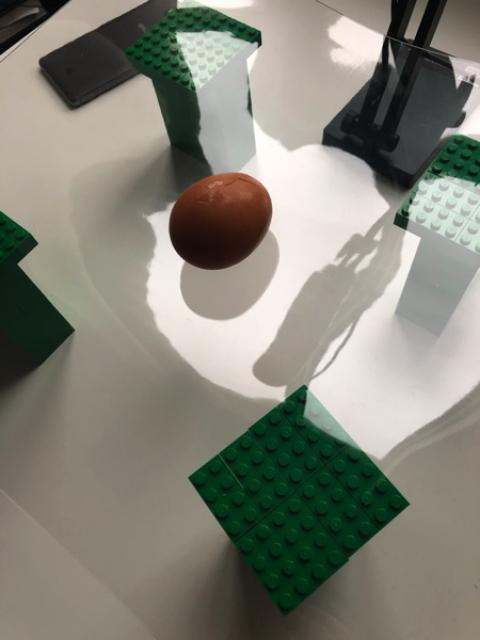Roto: (167, 171, 272, 270)
